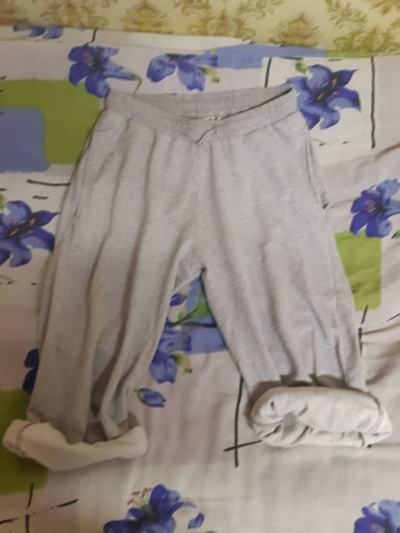Pants: (3, 73, 384, 478)
